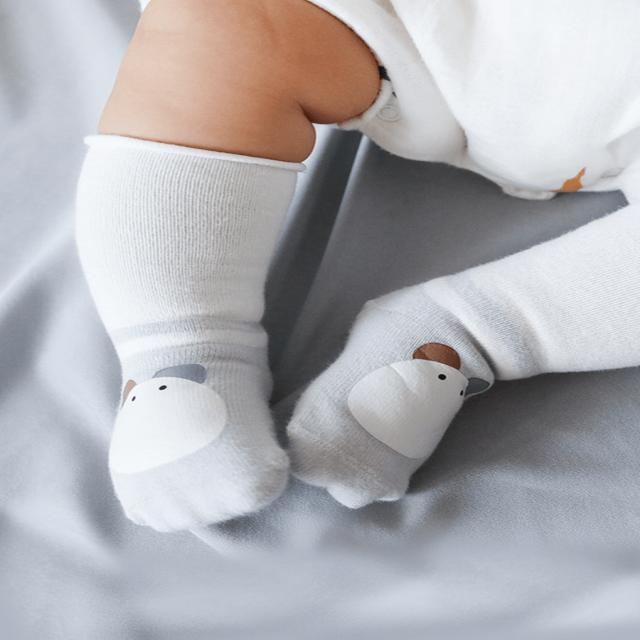sock: (73, 134, 307, 533)
